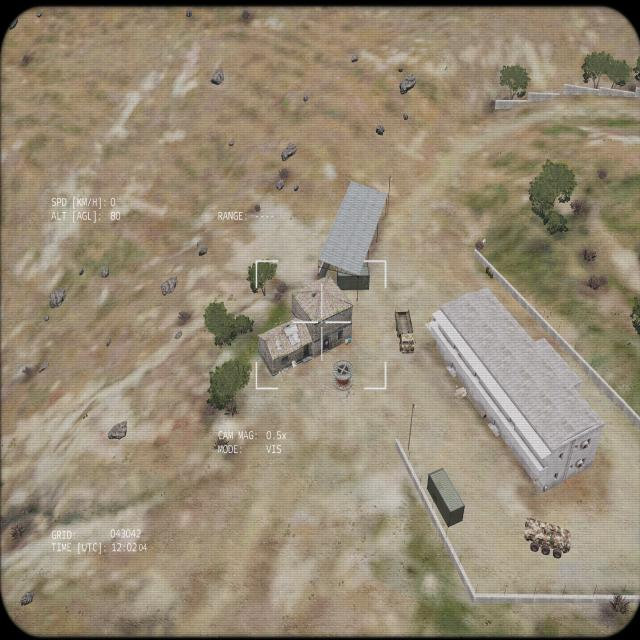apc: (522, 514, 570, 560)
truck: (393, 307, 415, 355)
